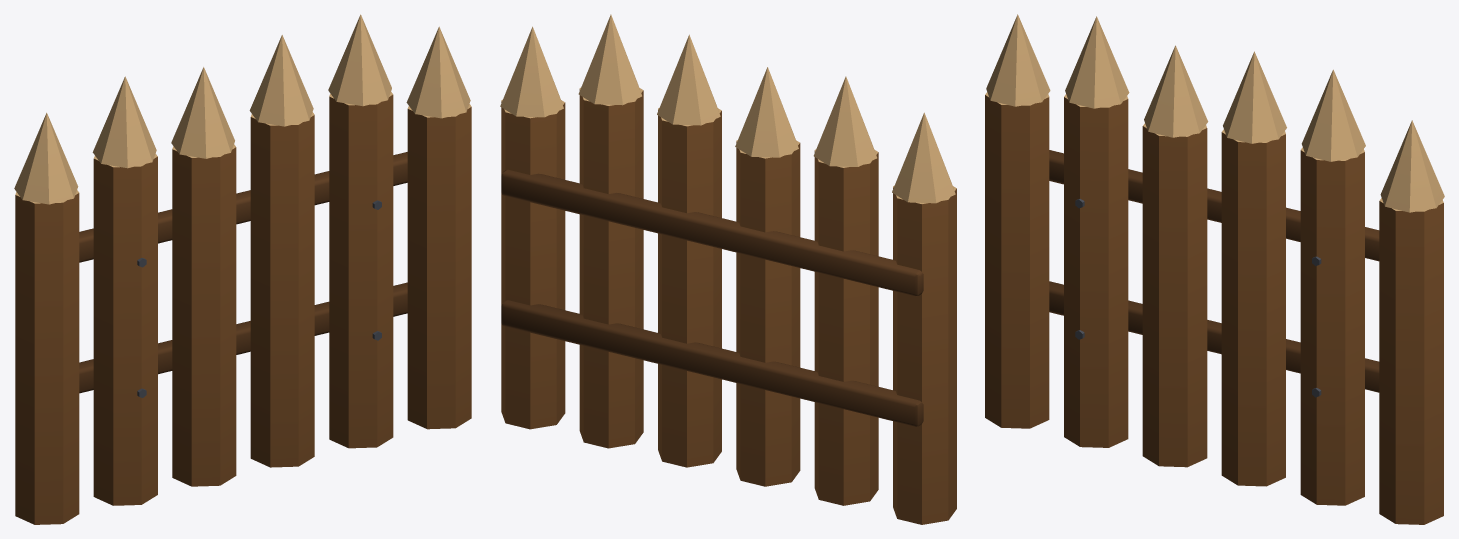
File: fence.glb
The picture shows the model from 3 angles, left to right: view 1: azimuth 30°, elevation 25°; view 2: azimuth 150°, elevation 25°; view 3: azimuth 330°, elevation 25°; orthographic projection.
Visible parts, largest first — view 1: fence; view 2: fence; view 3: fence.
Part boxes in pixels (x1,y1,x2,y2): fence: [14, 14, 471, 524]; fence: [500, 14, 956, 524]; fence: [985, 14, 1444, 524].
Size of the model in its own units: 2.51 by 2.26 by 0.361.
